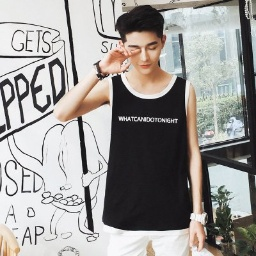face: (112, 5, 171, 76)
